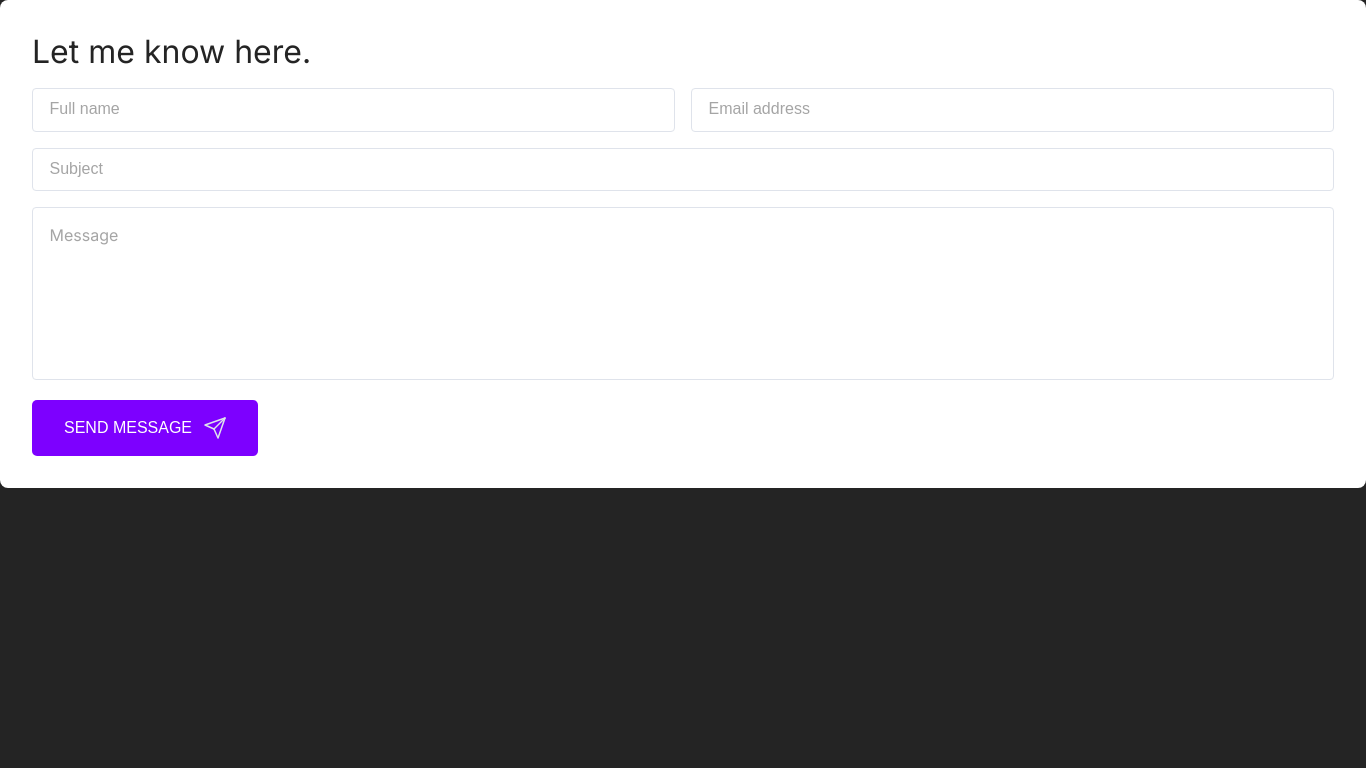
Test: ContactForm › displays validation errors when submitting an empty form
Click the button with test id "submit-button". click: (145, 428)
box: [32, 400, 258, 456]
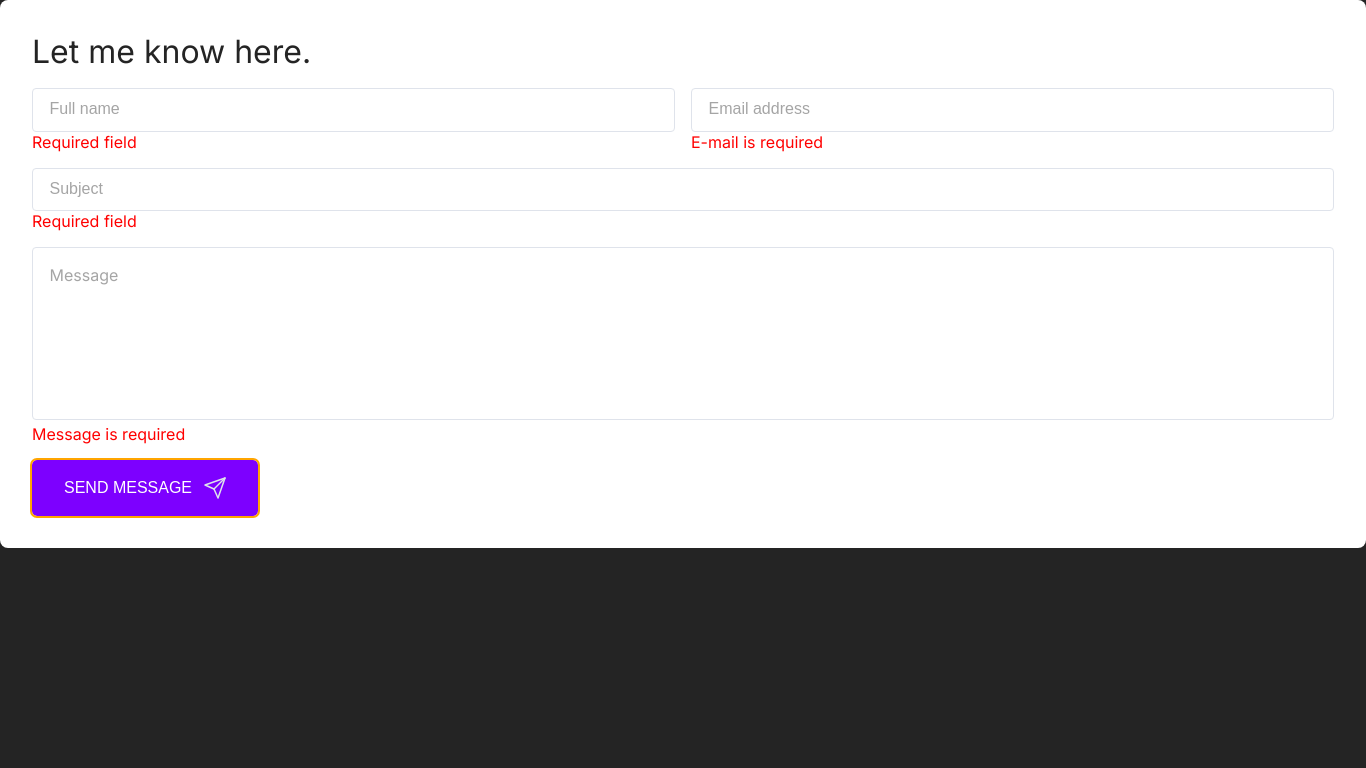
Expected: the text with test id "fullName-error" reads "Required field", [32, 132, 137, 152]
Expected: the text with test id "email-error" reads "E-mail is required", [691, 132, 823, 152]
Expected: the text with test id "subject-error" reads "Required field", [32, 211, 137, 231]
